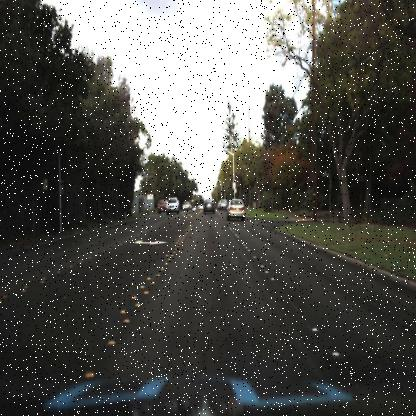car: (225, 193, 246, 220), (164, 192, 177, 213), (202, 194, 215, 215), (217, 195, 231, 214), (155, 197, 165, 213), (180, 198, 190, 214), (218, 195, 226, 211)
